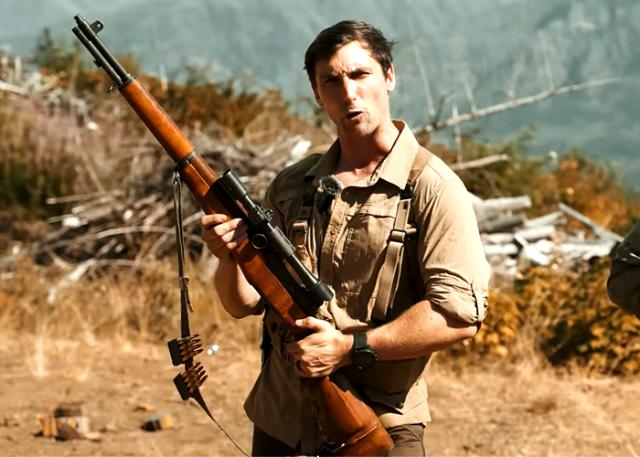rifle: (54, 9, 390, 456)
